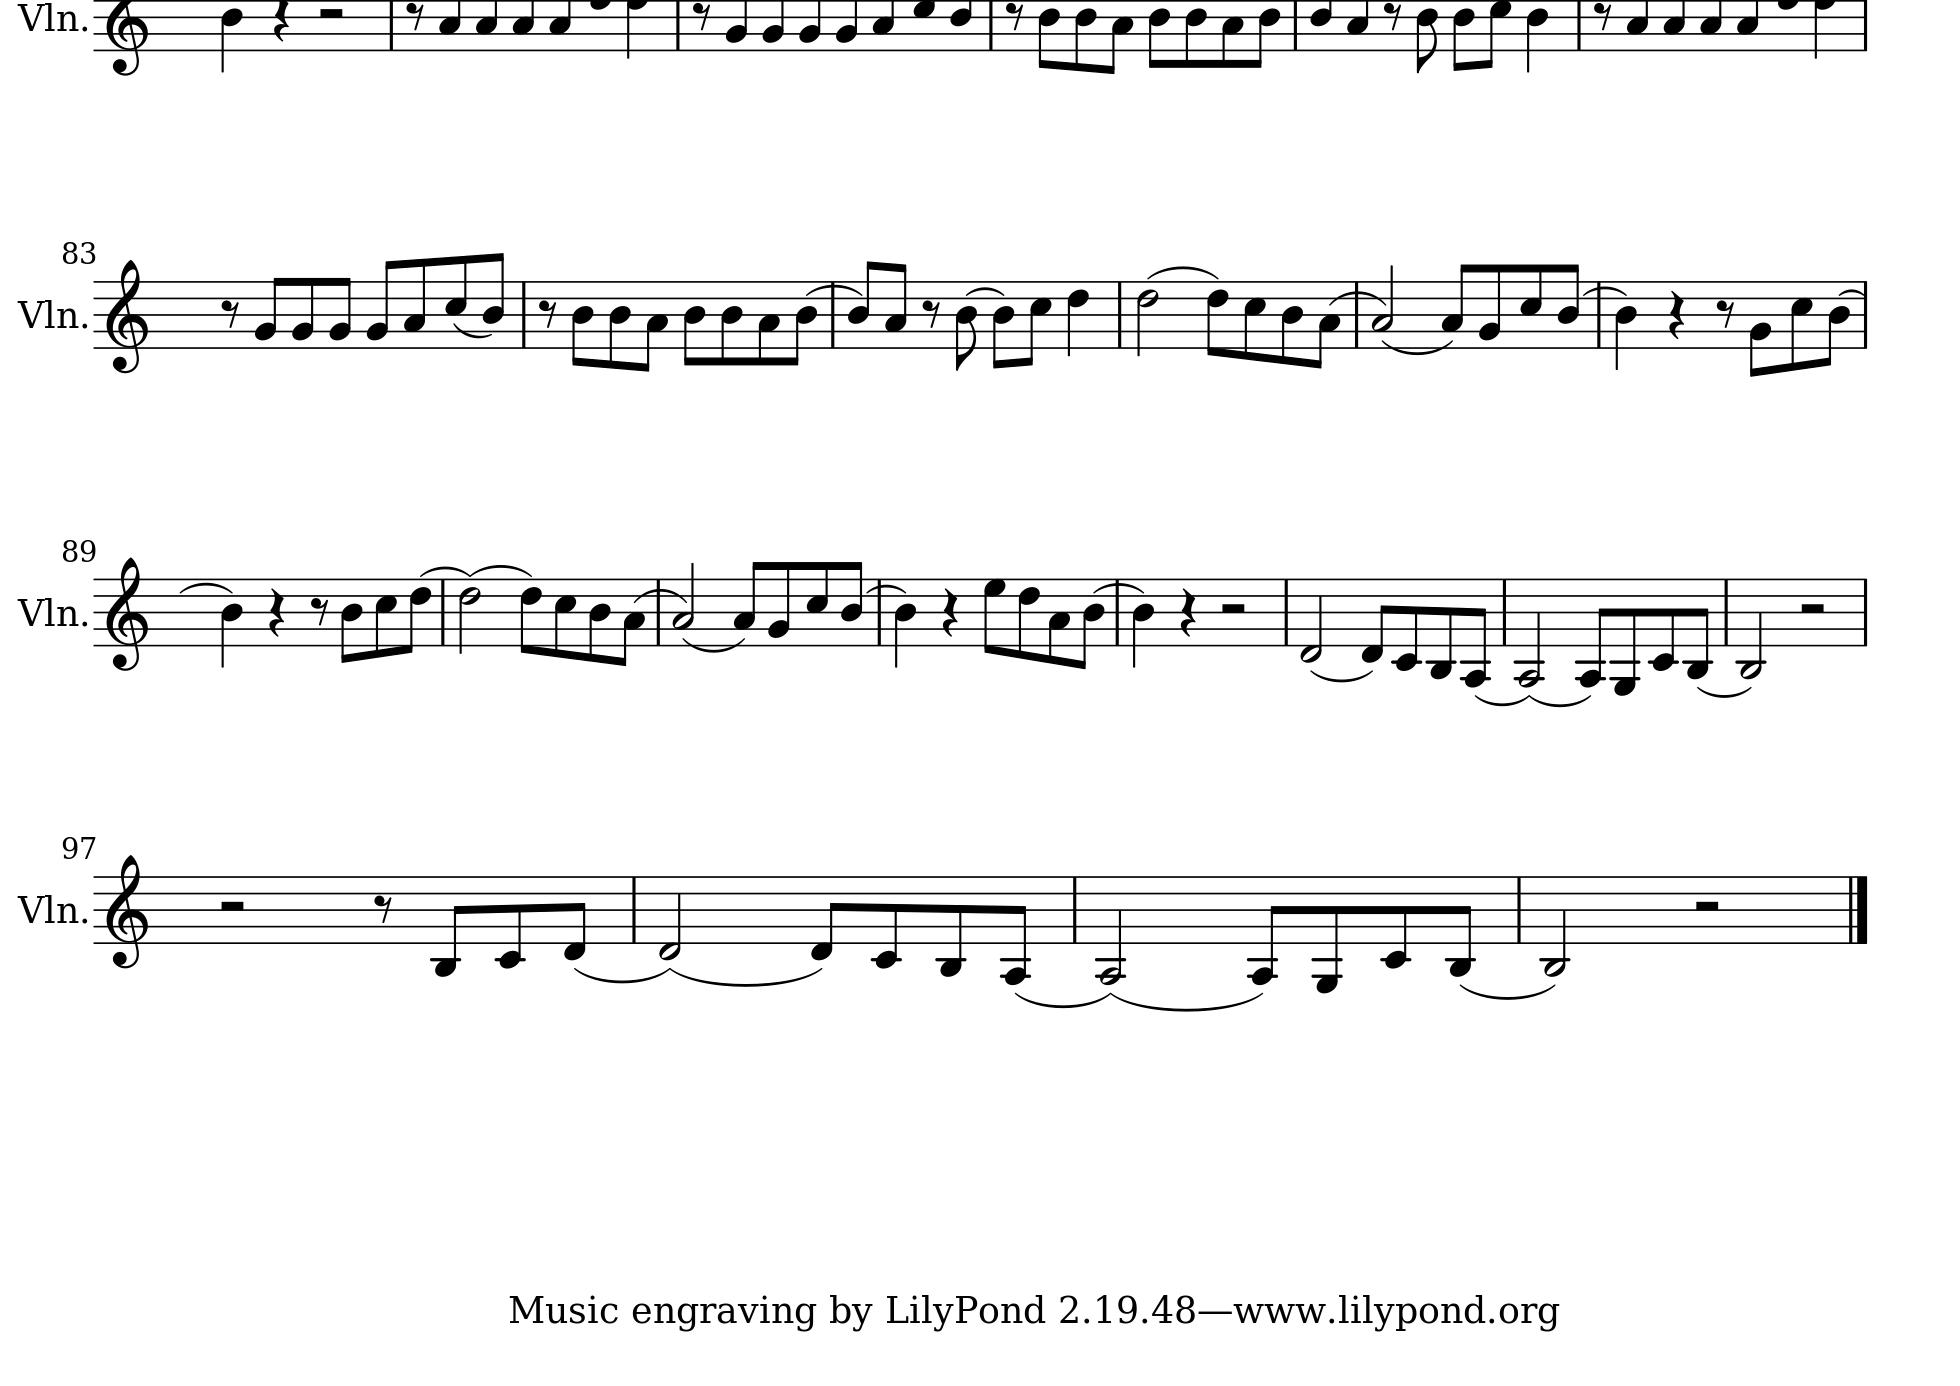2_-1: (1299, 574, 1326, 663), (655, 874, 682, 961)
2_-3: (1735, 574, 1765, 679), (1540, 873, 1570, 976)
2_-4: (1095, 873, 1128, 985), (1515, 574, 1545, 687)
2_3: (1369, 262, 1396, 351), (670, 559, 697, 646)
2_6: (1134, 277, 1159, 357), (457, 576, 481, 652)
3: (79, 238, 97, 265)
4_4: (1132, 576, 1158, 669), (892, 576, 916, 669), (1614, 279, 1638, 370), (220, 576, 244, 667)
4_6: (1065, 277, 1090, 358)
7: (79, 832, 97, 861)
8: (60, 535, 79, 564), (60, 238, 79, 265)
8_-1: (808, 874, 841, 963), (1359, 576, 1390, 664), (562, 874, 589, 961)
8_-2: (870, 873, 901, 970), (1380, 873, 1411, 970), (493, 874, 525, 970), (1648, 576, 1678, 673), (1392, 576, 1422, 672)
8_-3: (430, 873, 466, 976), (1446, 874, 1477, 979), (936, 874, 967, 976), (1684, 576, 1713, 679), (1428, 577, 1455, 679)
8_-4: (1246, 871, 1284, 987), (1575, 576, 1609, 687), (1000, 871, 1032, 987), (1461, 574, 1491, 685)
8_-5: (1311, 873, 1344, 993), (1612, 576, 1641, 694)
8_2: (364, 258, 396, 349), (1747, 279, 1773, 379), (766, 559, 792, 648), (253, 274, 283, 349), (1479, 262, 1503, 349), (291, 274, 315, 349), (328, 274, 352, 349)
8_3: (637, 279, 669, 373), (613, 577, 646, 667), (1311, 279, 1342, 370), (1440, 262, 1473, 349), (732, 559, 763, 648), (754, 277, 781, 367), (402, 256, 427, 349), (1045, 576, 1071, 664), (883, 261, 907, 349)
8_4: (1074, 574, 1105, 670), (846, 259, 879, 349), (787, 277, 819, 367), (481, 249, 507, 351), (952, 277, 979, 372), (1824, 279, 1851, 367), (990, 277, 1015, 370), (606, 279, 631, 370), (568, 277, 594, 367), (718, 277, 744, 367), (1279, 277, 1305, 367), (339, 577, 364, 664), (682, 277, 706, 367), (586, 574, 610, 664), (1557, 261, 1581, 349), (840, 559, 864, 646), (1413, 1, 1440, 76)
8_5: (1021, 277, 1051, 367), (444, 252, 469, 349), (1788, 277, 1813, 372), (1518, 262, 1545, 349), (1242, 277, 1267, 361), (552, 574, 577, 658), (805, 559, 829, 646), (373, 576, 397, 658)
8_6: (402, 576, 433, 654), (1204, 277, 1230, 358), (1017, 576, 1041, 661), (517, 576, 543, 655)
8_7: (982, 576, 1006, 655)
9: (79, 535, 97, 564), (61, 832, 78, 862)
Final_barline: (1843, 874, 1872, 943)
Gclef: (103, 850, 150, 970), (103, 553, 150, 672), (105, 256, 150, 375)
Rests2: (1216, 598, 1251, 619), (1797, 598, 1830, 619), (1690, 897, 1725, 916), (214, 895, 249, 913), (315, 4, 346, 24)
Rests4: (1666, 286, 1687, 340), (267, 586, 286, 639), (940, 586, 960, 639), (1179, 585, 1198, 637), (271, 1, 292, 45)
Rests8: (1005, 3, 1027, 37), (691, 1, 714, 34), (537, 297, 559, 330), (307, 595, 330, 628), (219, 297, 241, 328), (921, 297, 943, 328), (1714, 298, 1737, 330), (1383, 1, 1405, 31), (372, 892, 394, 922), (403, 1, 424, 31)
Single_barline: (1276, 577, 1294, 646), (624, 874, 642, 943), (1587, 277, 1614, 321), (1857, 577, 1873, 646), (514, 280, 531, 348), (1497, 579, 1513, 646), (1110, 580, 1126, 645), (1860, 280, 1875, 349), (1719, 577, 1734, 646), (1512, 874, 1527, 943), (870, 583, 886, 645), (1068, 876, 1083, 943), (1113, 280, 1128, 346), (1590, 286, 1606, 346), (436, 579, 451, 645), (651, 583, 667, 643), (826, 283, 841, 345), (1572, 1, 1588, 49)
Slur: (1111, 991, 1260, 1014), (672, 970, 823, 987), (1458, 982, 1558, 999), (574, 966, 669, 982), (1015, 991, 1110, 1006), (1146, 264, 1221, 282), (1380, 337, 1455, 355), (679, 634, 745, 652), (469, 564, 534, 579), (1309, 667, 1374, 682), (1329, 291, 1386, 307), (453, 319, 493, 340), (1530, 693, 1593, 706), (178, 580, 234, 595), (634, 589, 690, 604), (805, 283, 862, 297), (1473, 693, 1530, 706), (1090, 580, 1146, 594), (1698, 684, 1752, 697), (418, 565, 469, 577), (1584, 283, 1629, 297), (865, 582, 907, 595), (964, 285, 1005, 298), (1836, 286, 1864, 297)
Vln: (16, 886, 78, 931), (18, 591, 78, 634), (18, 294, 78, 334), (16, 1, 79, 37)
